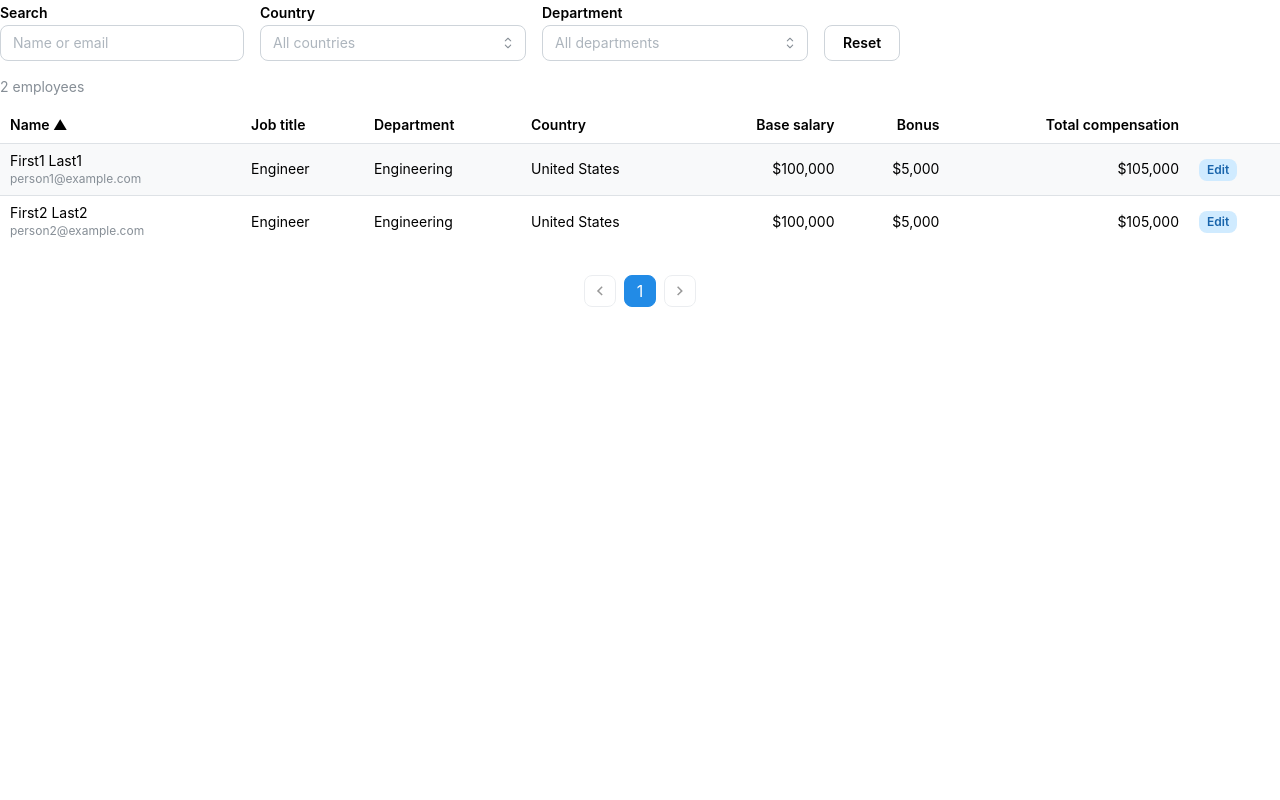
Test: DirectoryPage › editing salary › keeps the list unchanged when the modal is cancelled
Expected: the text "First1 Last1" is shown, [10, 152, 82, 169]
Click the button with aria-label "Edit salary for First1 Last1". click: (1218, 170)
box: [1199, 159, 1237, 181]
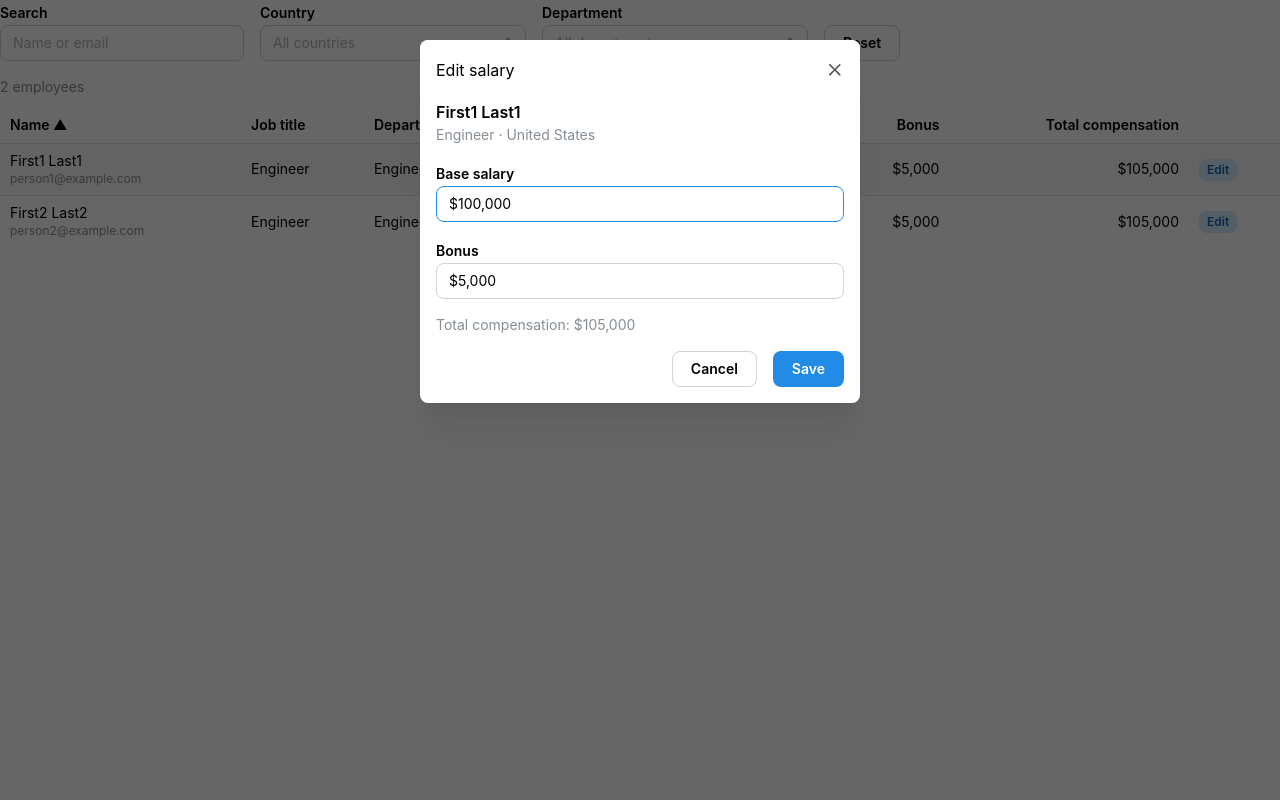
Click the button "Cancel". click: (714, 369)
box: [672, 351, 757, 387]
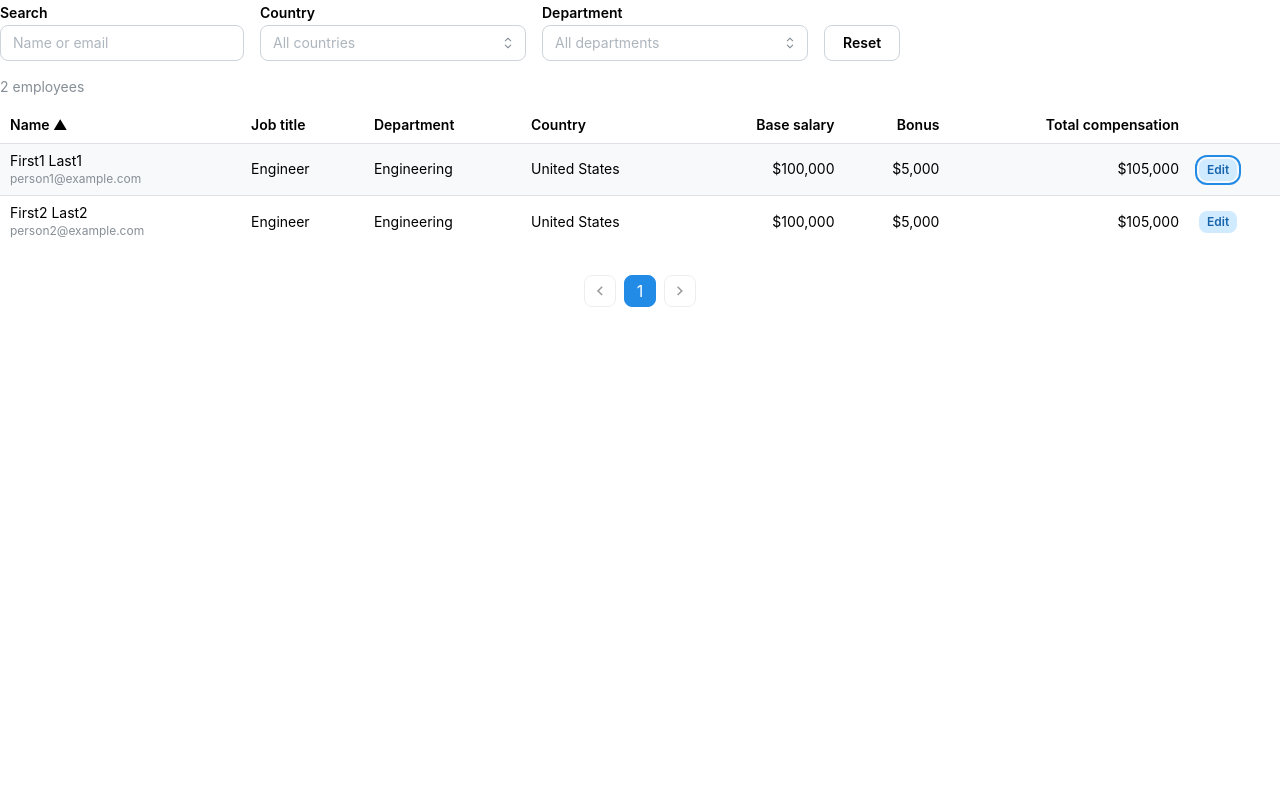
Expected: the dialog is gone
